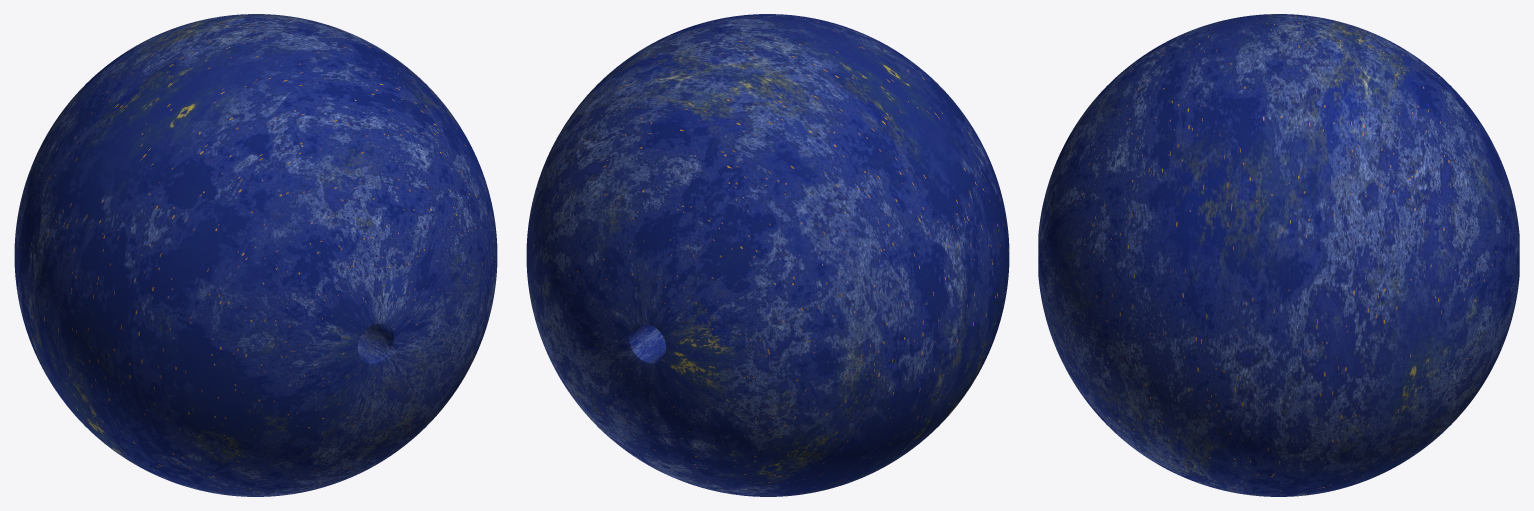
The model's file is lapis-lazuli-12mm.glb.
3 renders of one model, left to right at view 1: azimuth 30°, elevation 25°; view 2: azimuth 150°, elevation 25°; view 3: azimuth 270°, elevation 25°, orthographic.
Parts seen in each view (by area): view 1: lapis-lazuli; view 2: lapis-lazuli; view 3: lapis-lazuli.
Part boxes in pixels (x1=…): lapis-lazuli: x1=14, y1=14, x2=497, y2=496; lapis-lazuli: x1=526, y1=14, x2=1009, y2=496; lapis-lazuli: x1=1038, y1=14, x2=1519, y2=496.
Bounding box in the file's own units: 0.012 × 0.012 × 0.012.
1 material, 1 textured.
